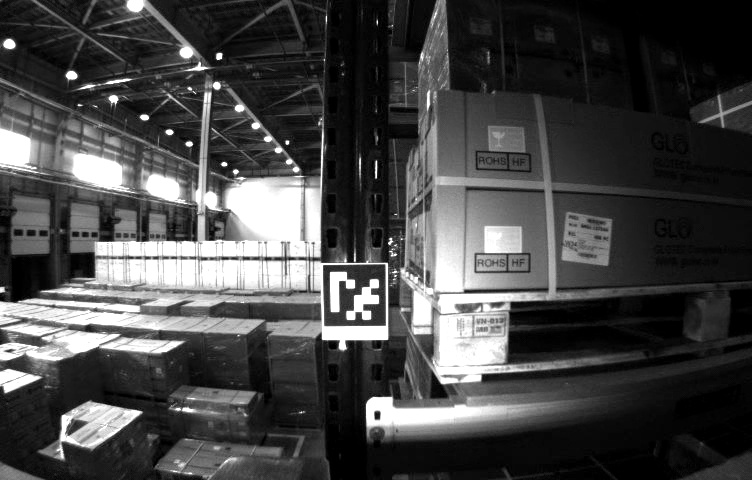True Barcode: (561, 210, 612, 264)
